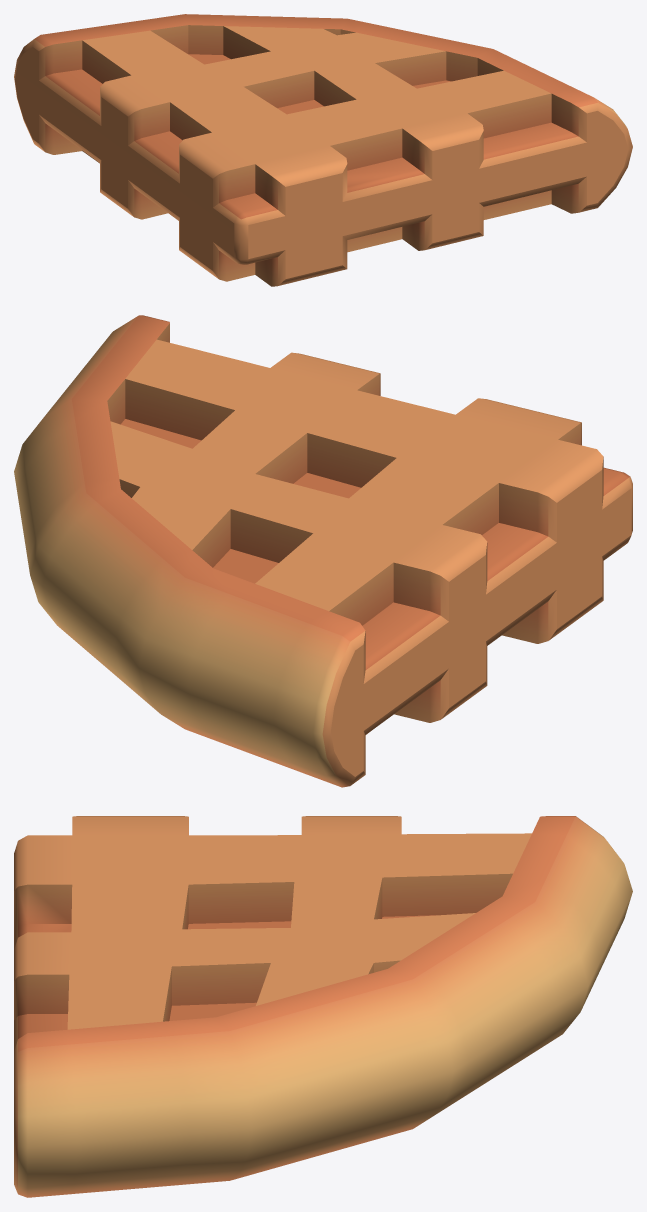
File: Waffle_Slice_V1_00.fbx
3 views of the same model, one above another, from view 1: azimuth 30°, elevation 25°; view 2: azimuth 150°, elevation 25°; view 3: azimuth 270°, elevation 25° (orthographic). The views are drawn at different scales.
Visible parts, largest first — view 1: Waffle_Slice_V1_00; view 2: Waffle_Slice_V1_00; view 3: Waffle_Slice_V1_00.
Part boxes in pixels (<box>): Waffle_Slice_V1_00: <box>14,14,632,286</box>; Waffle_Slice_V1_00: <box>14,315,632,787</box>; Waffle_Slice_V1_00: <box>14,816,632,1197</box>.
Size of the model in its own units: 31.94 by 8.52 by 31.94.
